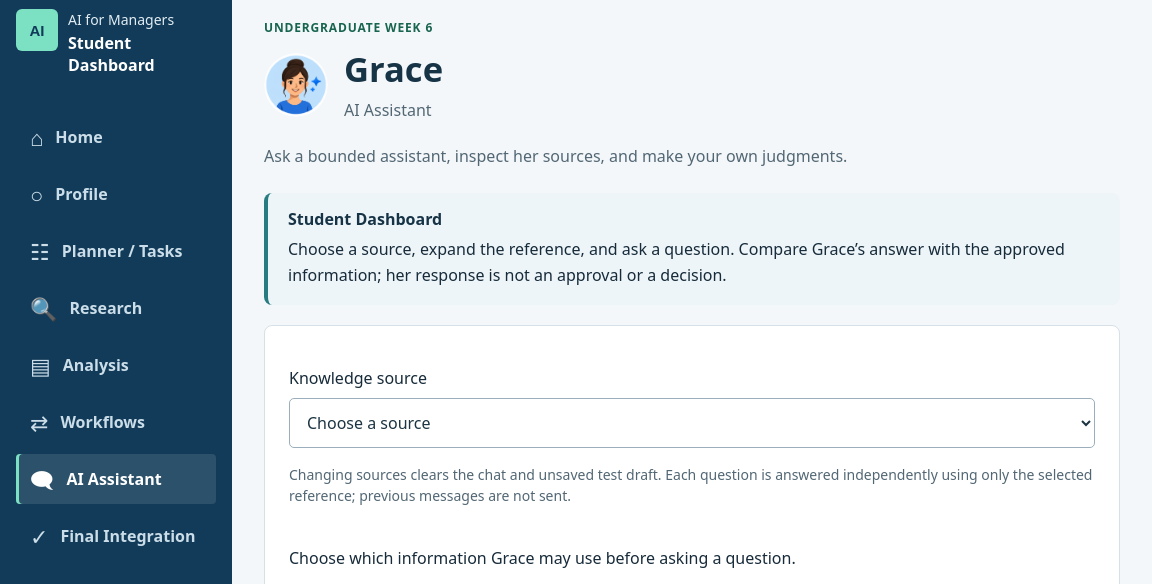
Test: Week 6 Grace › shows an error with no fabricated answer for network failure
(page scrolled)
Select "Coastal Life Employee Information" in the dropdown labelled "Knowledge source" at (692, 423), box x1=289 y1=398 x2=1095 y2=448
(page scrolled)
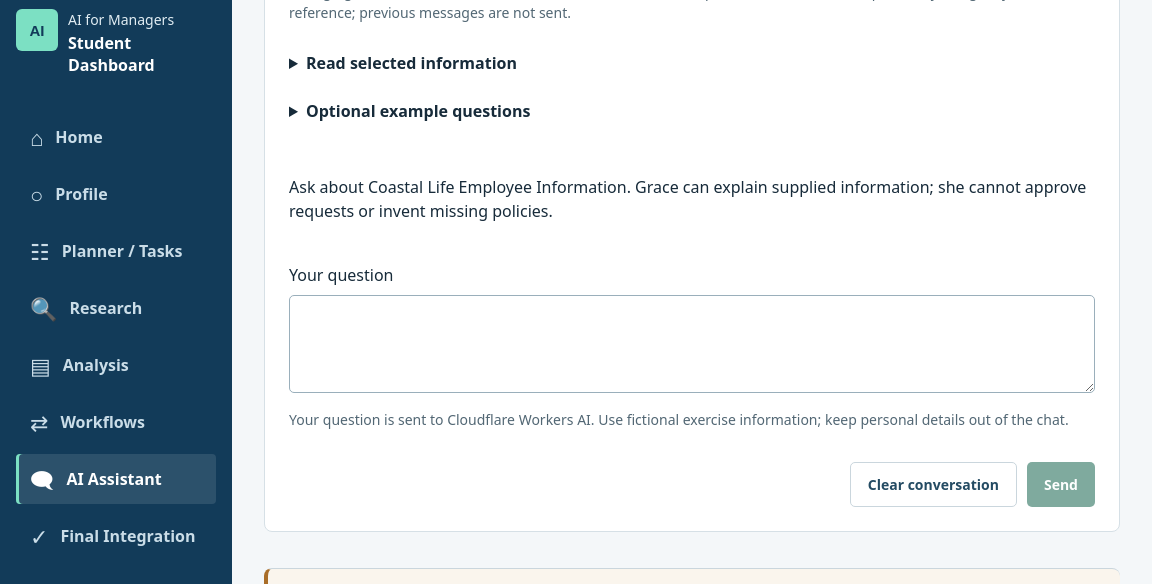
Type "PTO?" into the text box labelled "Your question".
click(692, 344); type("PTO?")  # box x1=289 y1=295 x2=1095 y2=393
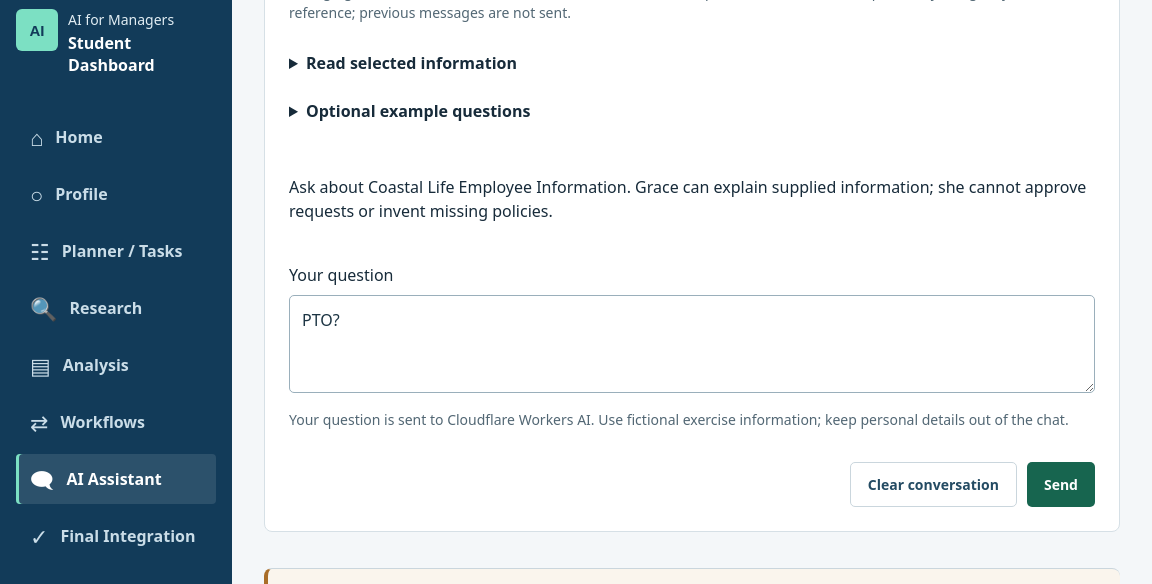
Click the button "Send".
click(1061, 484)  # box x1=1027 y1=462 x2=1095 y2=507
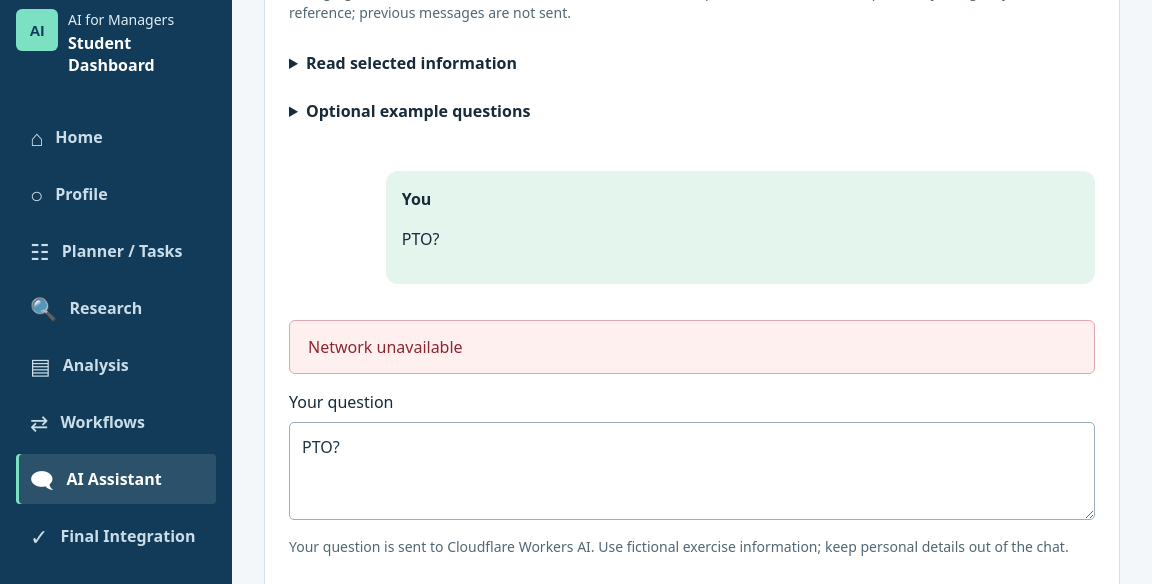
Expected: the message "Network unavailable" is shown, x1=289 y1=320 x2=1095 y2=374
